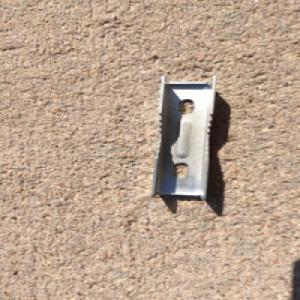ClampPart: (147, 74, 221, 201)
